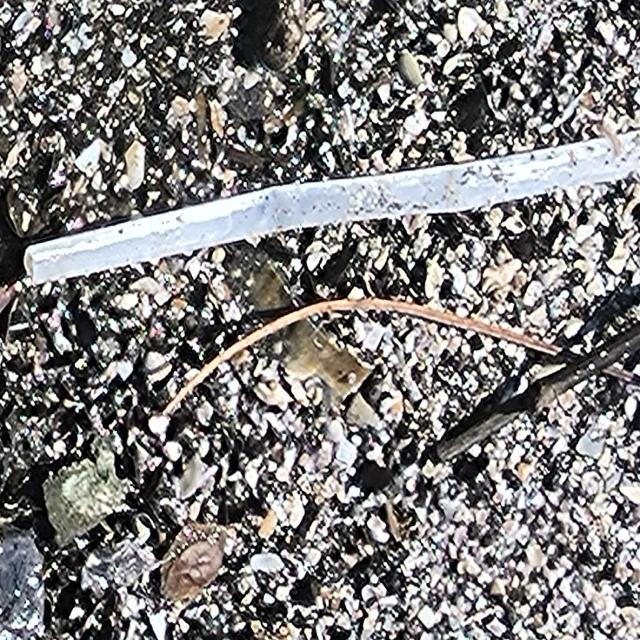plastic_waste: (23, 128, 640, 288)
